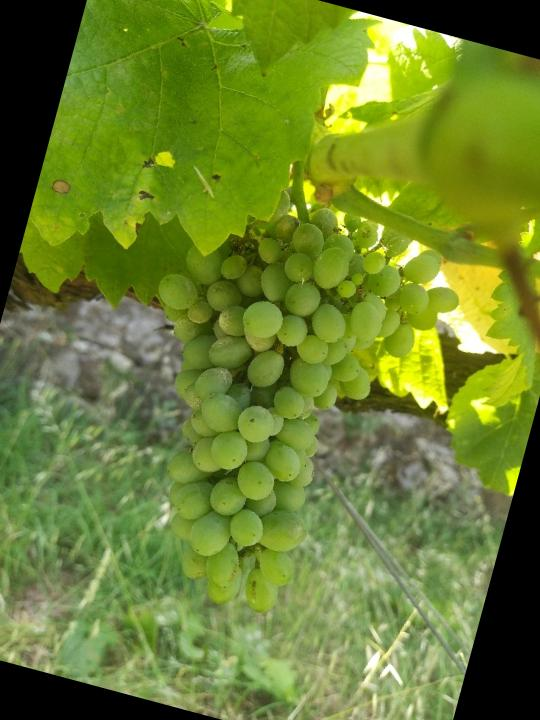grape: (78, 164, 482, 649)
